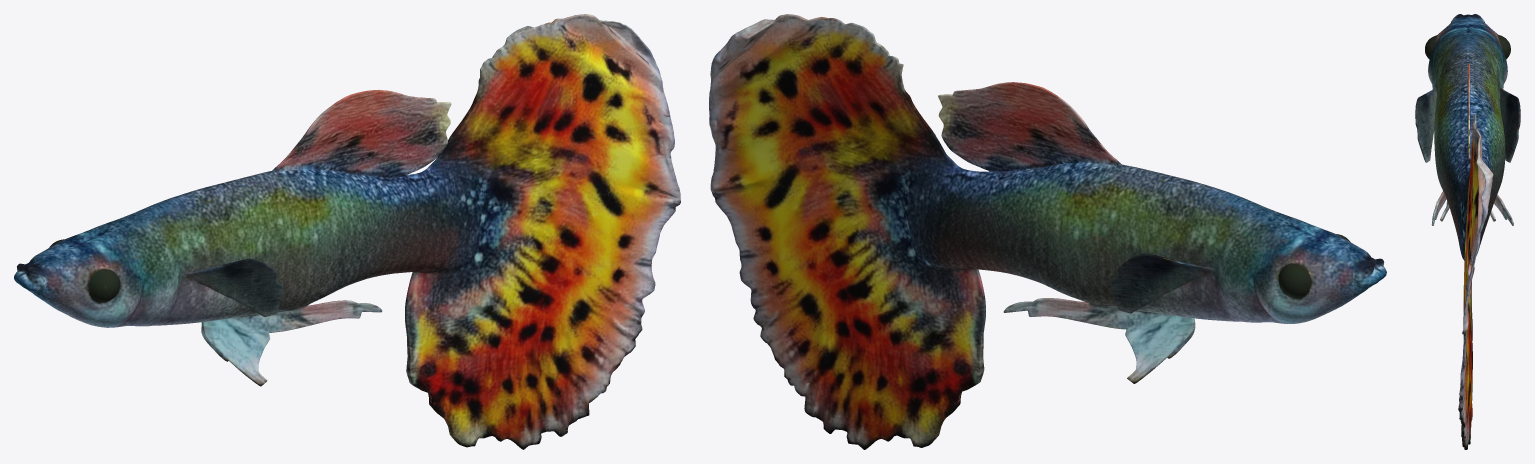
File: guppy_male_mesh.glb
3 views of the same model, side by side, from view 1: azimuth 30°, elevation 25°; view 2: azimuth 150°, elevation 25°; view 3: azimuth 270°, elevation 25° (orthographic). The views are drawn at different scales.
Visible parts, largest first — view 1: world; view 2: world; view 3: world.
Part boxes in pixels (bbox=[...]): world: bbox=[14, 14, 680, 449]; world: bbox=[709, 14, 1386, 449]; world: bbox=[1415, 14, 1520, 449].
Bounding box in the file's own units: 1 × 0.6058 × 0.1771.
Materials: 1 (1 with a texture image).
